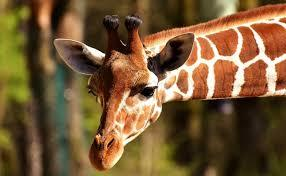Non_Gorille: (33, 2, 286, 173)
